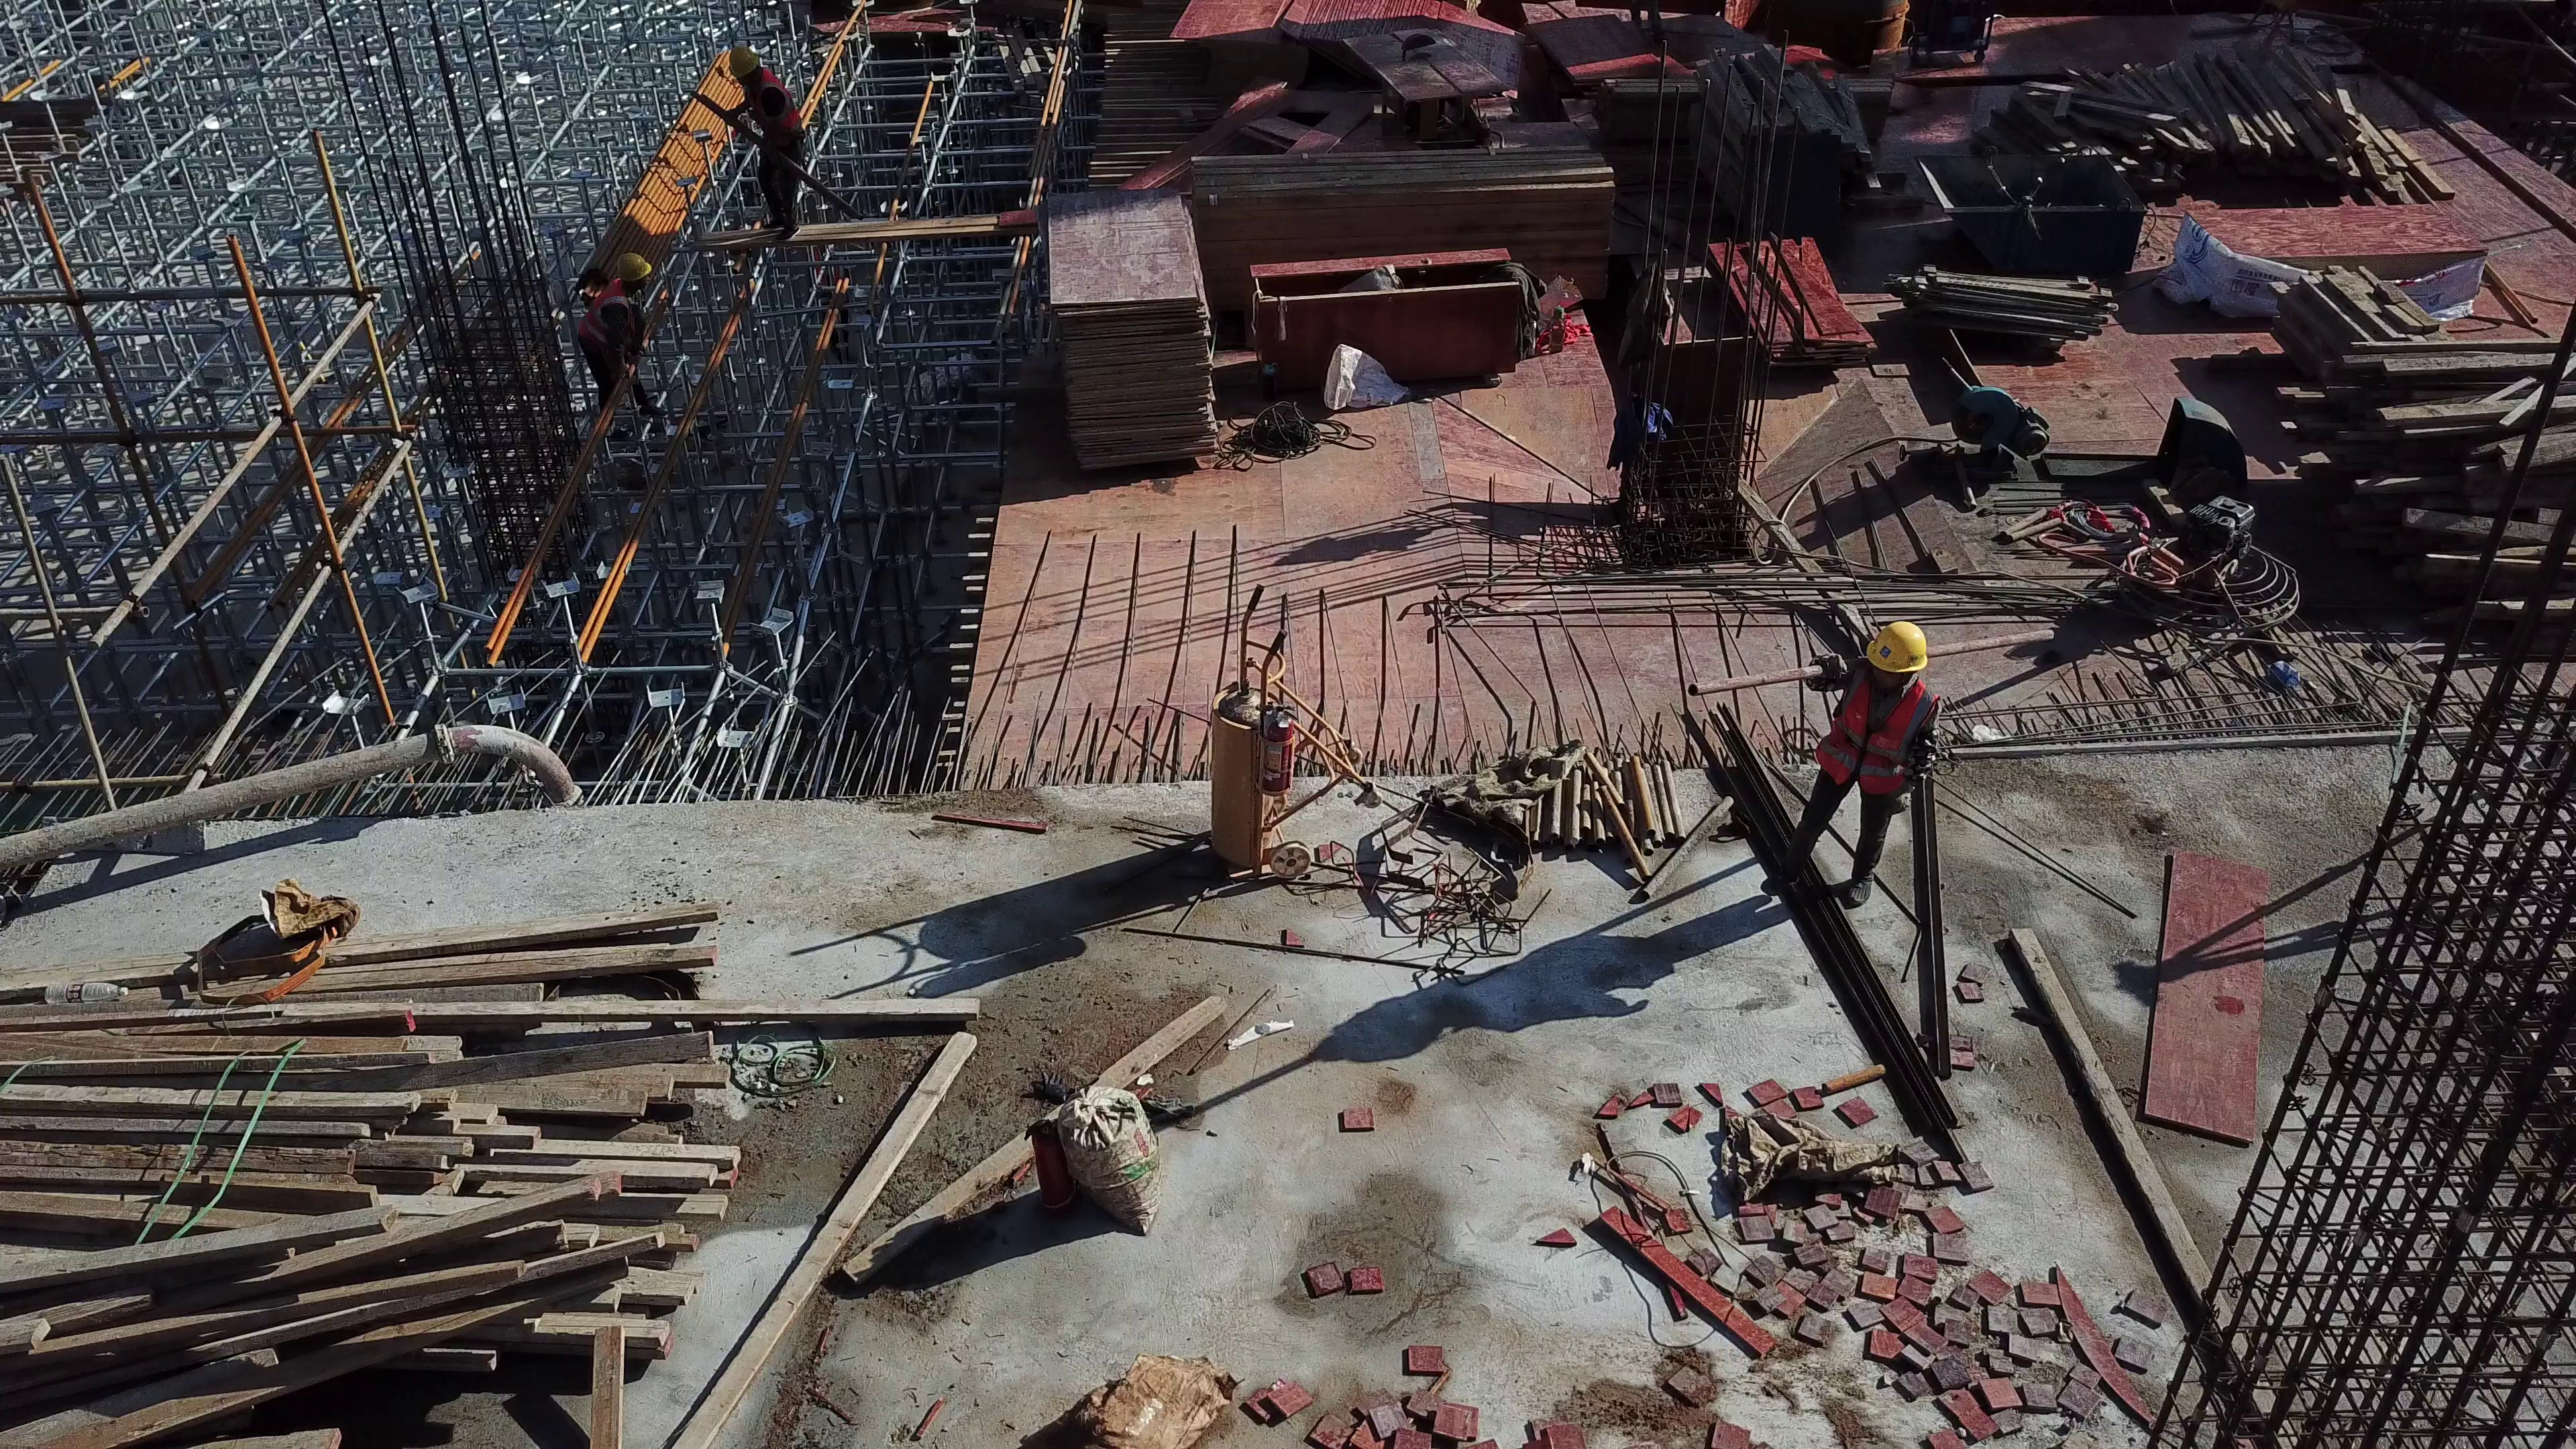board: (1034, 174, 1228, 474)
helmet: (1866, 619, 1932, 676), (726, 42, 761, 80), (616, 254, 653, 278)
person: (1803, 615, 1940, 915), (717, 43, 812, 259), (577, 241, 663, 424)
vest: (1811, 676, 1933, 816)
wood: (16, 890, 1011, 1449), (1181, 148, 1638, 286)
